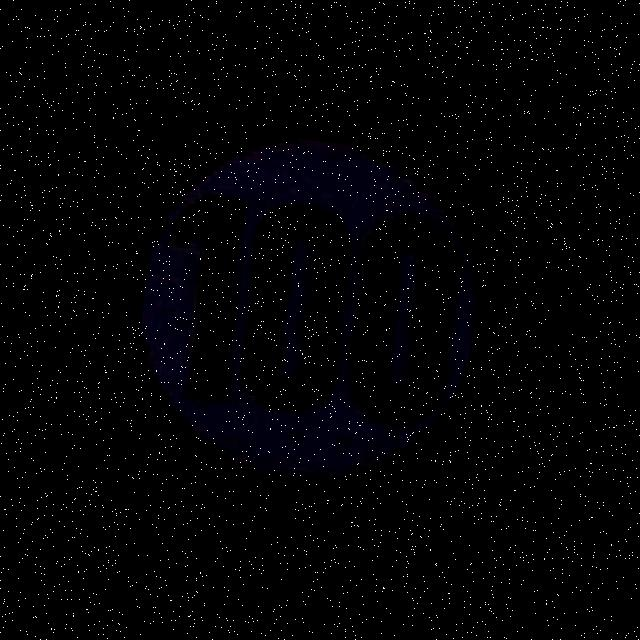Ograniczenie predkosci do 100: (37, 38, 589, 582)
